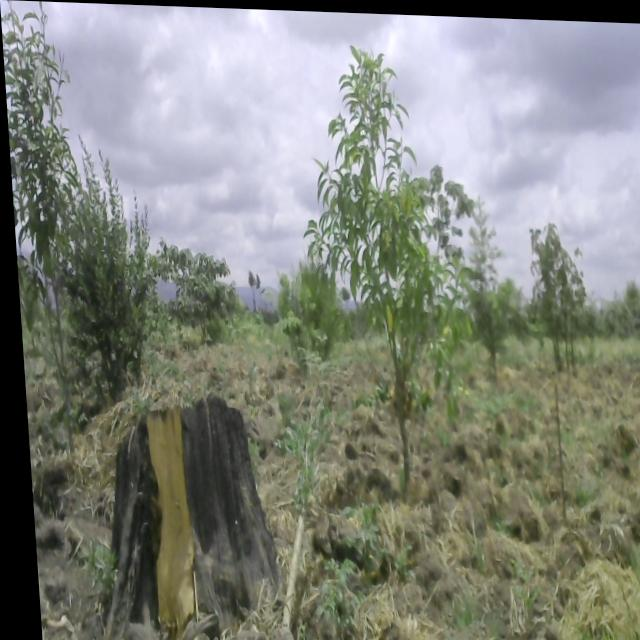Lemon Myrtle: (291, 29, 465, 478), (3, 0, 88, 418)
